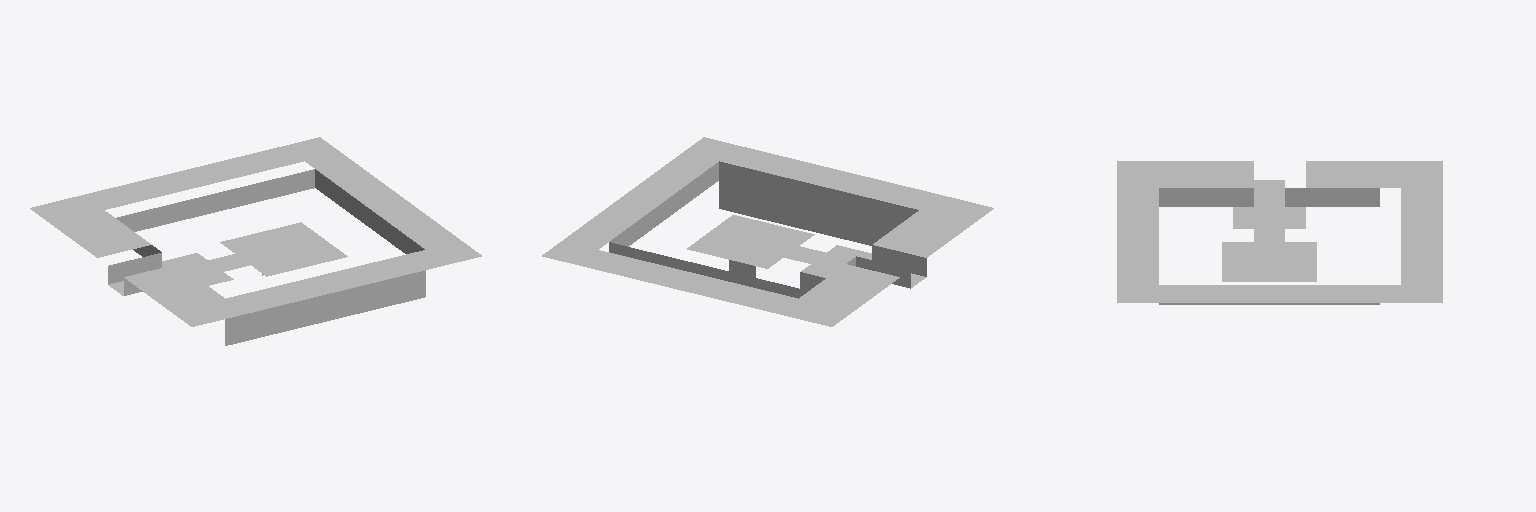
The model's file is lvl_shipGenerator1.obj.
3 views of the same model, side by side, from view 1: azimuth 30°, elevation 25°; view 2: azimuth 150°, elevation 25°; view 3: azimuth 270°, elevation 25° (orthographic).
Parts seen in each view (by area): view 1: Default; view 2: Default; view 3: Default.
Boxes of the visible parts, x1=… form: Default: x1=30, y1=137, x2=481, y2=345; Default: x1=542, y1=137, x2=993, y2=326; Default: x1=1117, y1=161, x2=1442, y2=304.
Bounding box in the file's own units: 32 × 5 × 31.